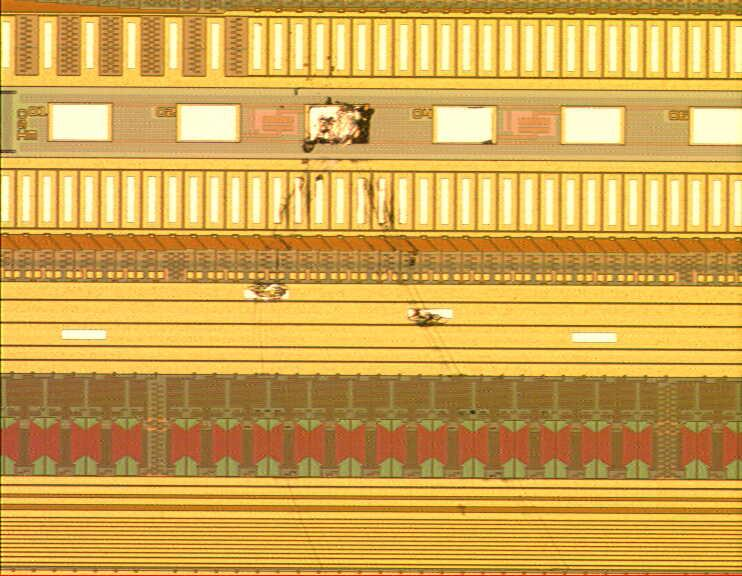SCRATCH: (225, 77, 582, 576)
